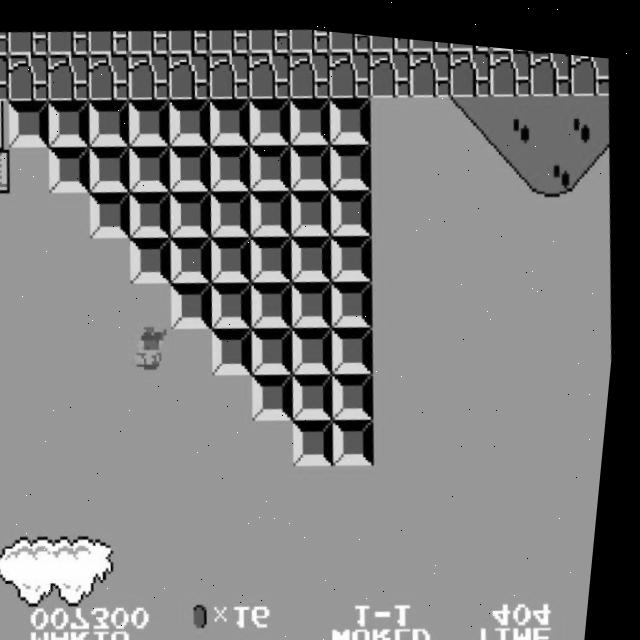11- little_mario: (130, 319, 182, 375)
14- pipe: (0, 99, 15, 151)
15- pipe_head: (0, 144, 17, 196)
17- undestructible_block: (45, 48, 95, 102), (85, 47, 135, 101), (125, 46, 175, 100), (245, 43, 295, 97), (446, 37, 496, 91), (4, 50, 54, 103), (165, 45, 215, 98), (205, 44, 255, 97), (285, 42, 335, 95), (365, 40, 415, 93), (406, 38, 455, 92), (485, 37, 535, 89), (326, 41, 375, 94), (526, 40, 575, 88), (567, 43, 612, 86), (6, 27, 51, 58), (46, 26, 91, 57), (207, 21, 252, 52), (247, 20, 292, 51), (86, 25, 131, 55), (126, 24, 171, 54), (167, 23, 212, 53), (286, 22, 331, 49), (326, 25, 371, 48), (367, 28, 411, 47), (0, 53, 14, 104), (407, 31, 451, 46), (447, 34, 491, 44), (0, 31, 11, 59)
9- hard_block: (47, 140, 97, 194), (88, 139, 138, 193), (126, 92, 176, 146), (170, 228, 220, 282), (166, 91, 216, 145), (213, 319, 263, 373), (211, 227, 261, 281), (253, 318, 303, 372), (288, 133, 338, 187), (335, 361, 385, 415), (328, 132, 378, 186), (327, 86, 377, 140), (6, 96, 56, 149), (46, 95, 96, 148), (86, 94, 136, 147), (130, 230, 180, 283), (168, 137, 218, 190), (255, 364, 305, 417), (248, 135, 298, 188), (246, 89, 296, 142), (291, 225, 341, 278), (287, 88, 337, 141), (333, 316, 383, 369), (331, 224, 381, 277), (128, 138, 177, 192), (207, 90, 256, 144), (251, 226, 300, 280), (212, 274, 261, 327), (208, 136, 257, 189), (250, 181, 299, 234), (295, 363, 344, 416), (294, 317, 343, 370), (290, 180, 339, 233), (333, 270, 382, 323), (89, 186, 138, 238), (169, 184, 218, 236), (292, 272, 341, 324), (336, 408, 385, 460), (330, 179, 379, 231), (173, 275, 221, 328), (130, 185, 178, 237), (210, 183, 258, 235), (253, 273, 301, 325), (297, 409, 345, 461)
